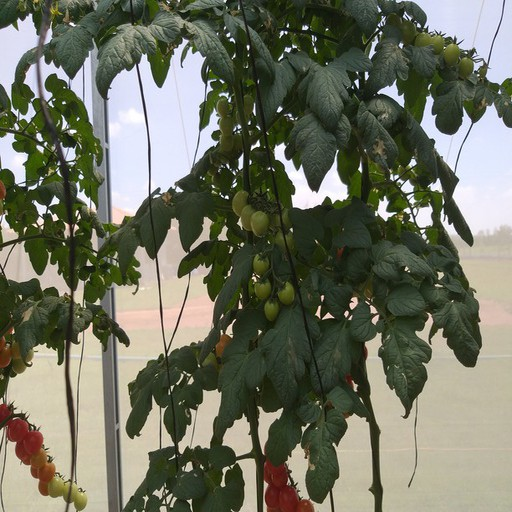green tomato bunch: (233, 187, 296, 321), (383, 12, 475, 73), (214, 94, 251, 155), (195, 335, 242, 376), (1, 333, 36, 377)
mixed tomato bunch: (1, 403, 88, 510)
red tomato bunch: (318, 336, 370, 425), (262, 457, 315, 512)
